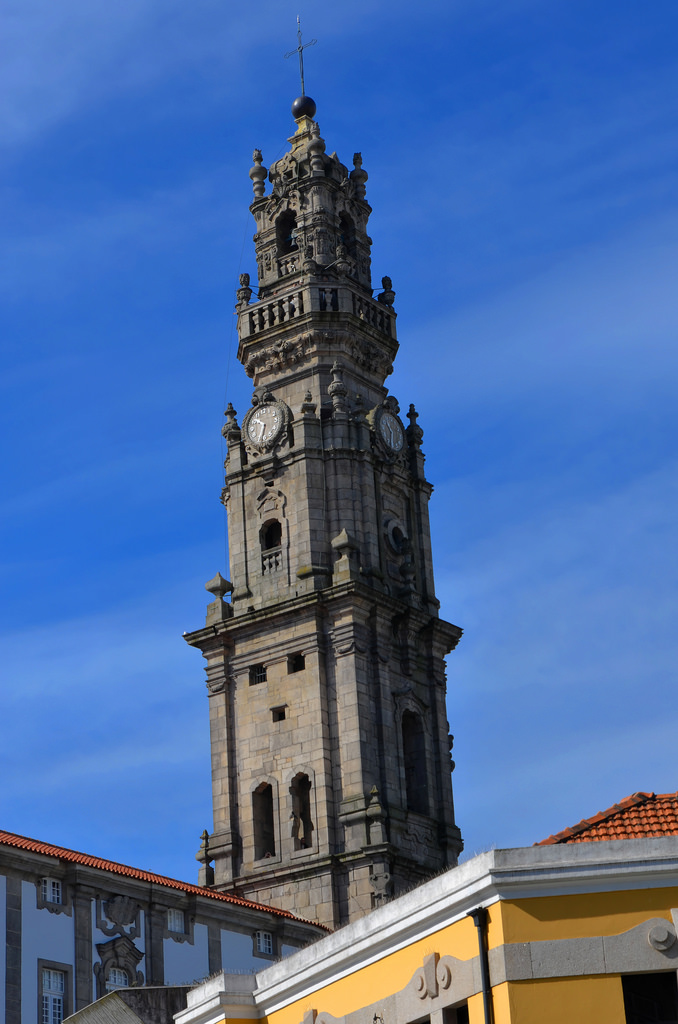clerigos: (175, 10, 471, 948)
